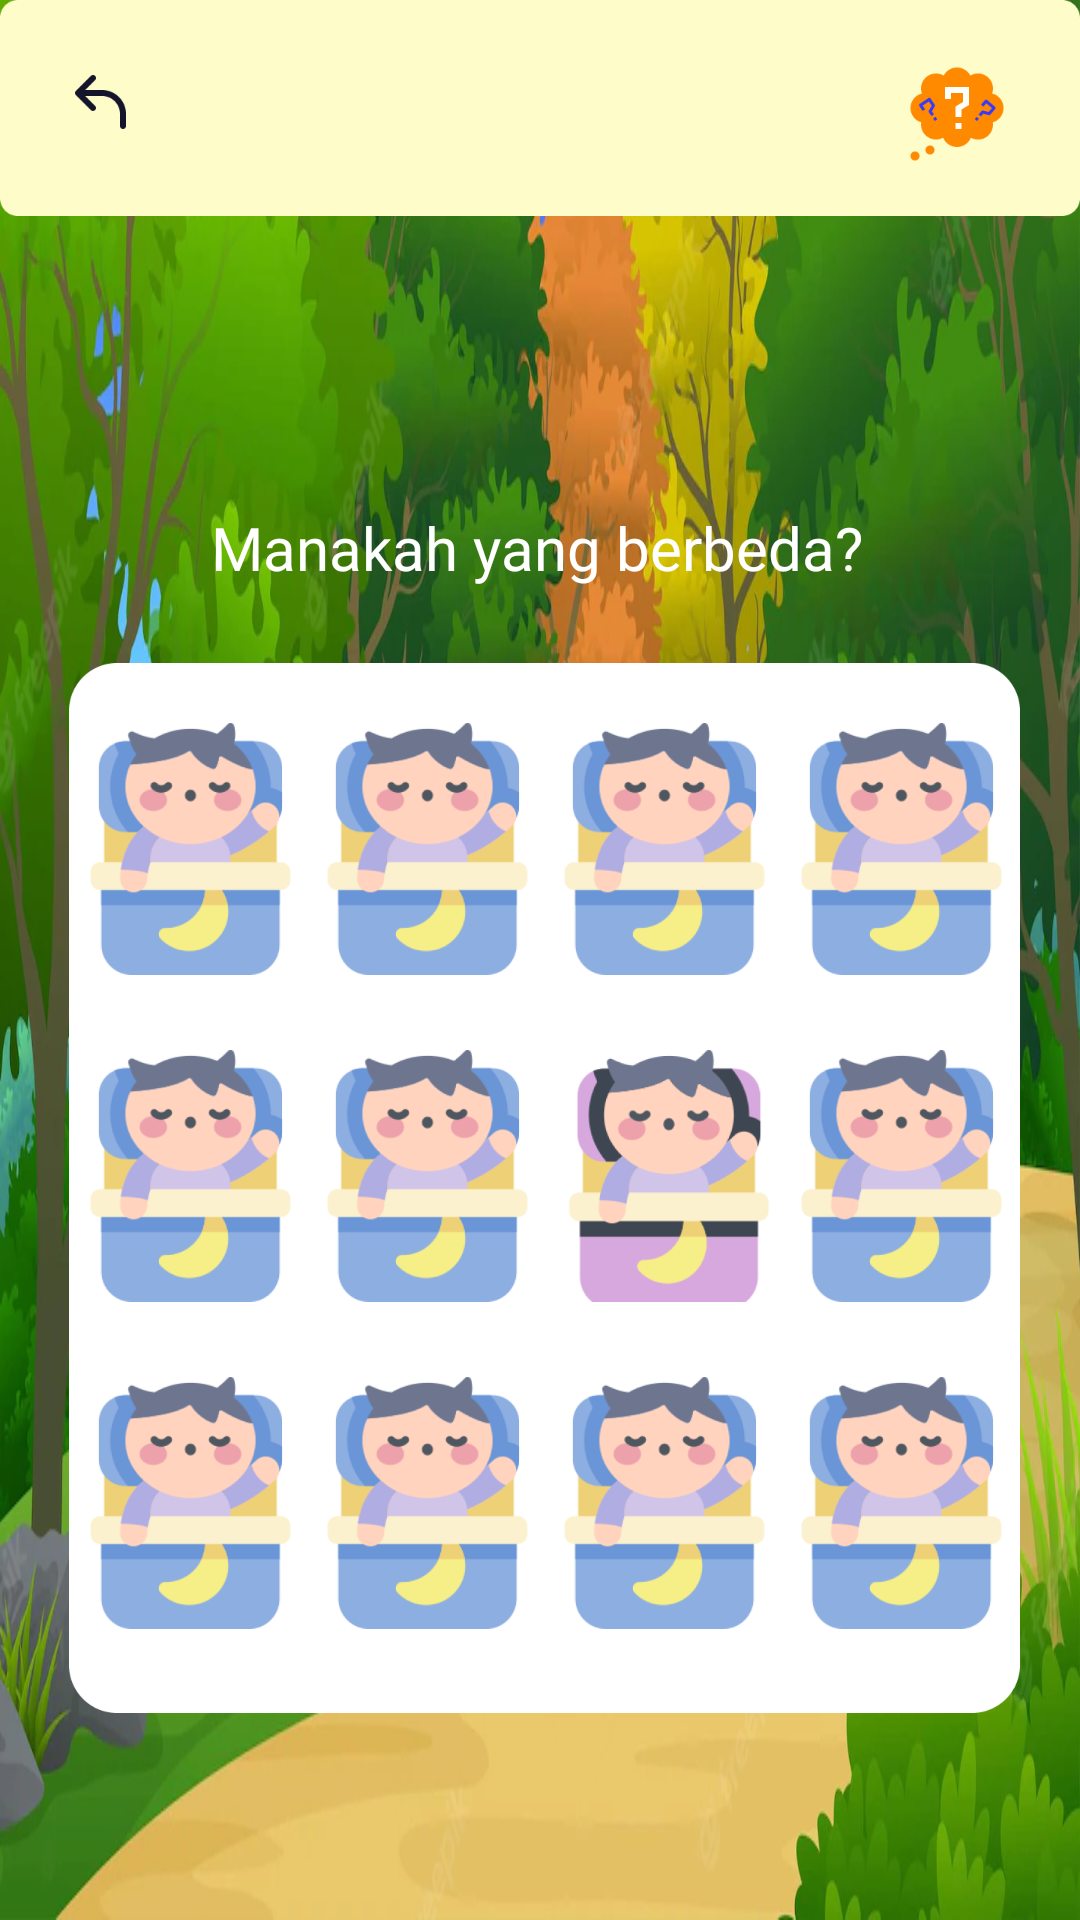

Screen size 1080px×1920px. Icon name, then its center in pixels as point (x, y):
back: point (100, 102)
bayiungu: point (669, 1176)
help: point (957, 114)
